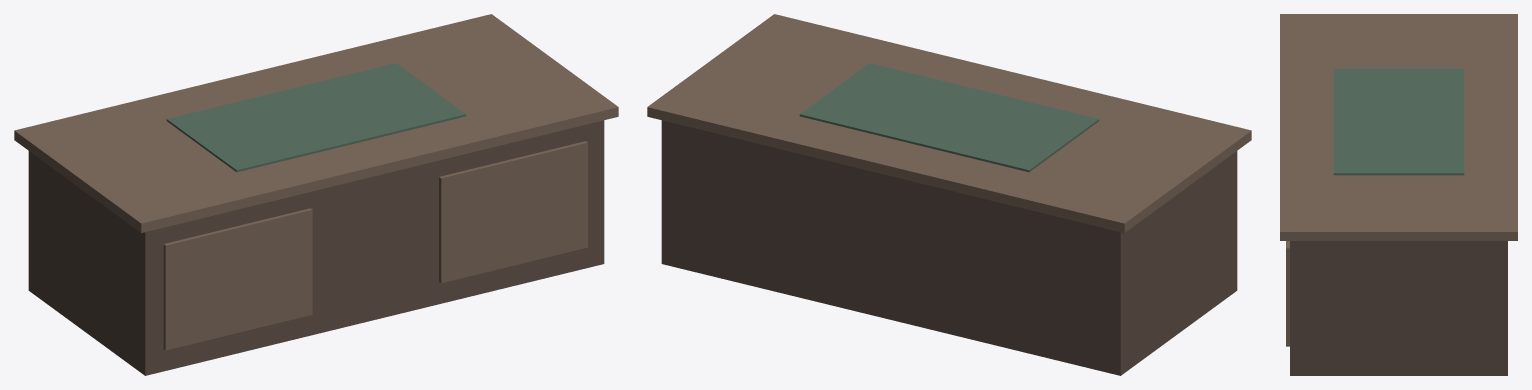
Rendered from escritorio.glb.
The picture shows the model from 3 angles, left to right: view 1: azimuth 30°, elevation 25°; view 2: azimuth 150°, elevation 25°; view 3: azimuth 270°, elevation 25°; orthographic projection. The views are drawn at different scales.
Parts seen in each view (by area): view 1: Escritorio_250x78x110; view 2: Escritorio_250x78x110; view 3: Escritorio_250x78x110.
Part boxes in pixels (bbox=[...]): Escritorio_250x78x110: bbox=[14, 14, 618, 375]; Escritorio_250x78x110: bbox=[647, 14, 1251, 375]; Escritorio_250x78x110: bbox=[1280, 14, 1517, 375].
Size of the model in its own units: 2.6 by 0.836 by 1.2.
